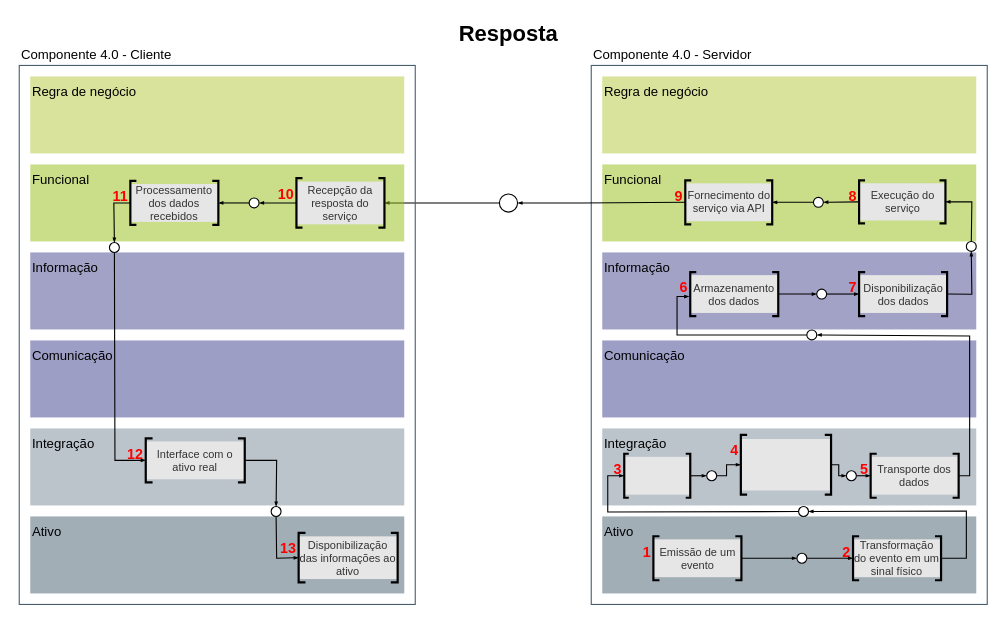
Image size: 1007x624. Some labels were removed from this diagram. The centre of each missing label's shape, as x and y in pixels:
"Definição do protocolo de transferência de dados" goes at (785,464).
"Virtualização dos dados" goes at (657,475).
